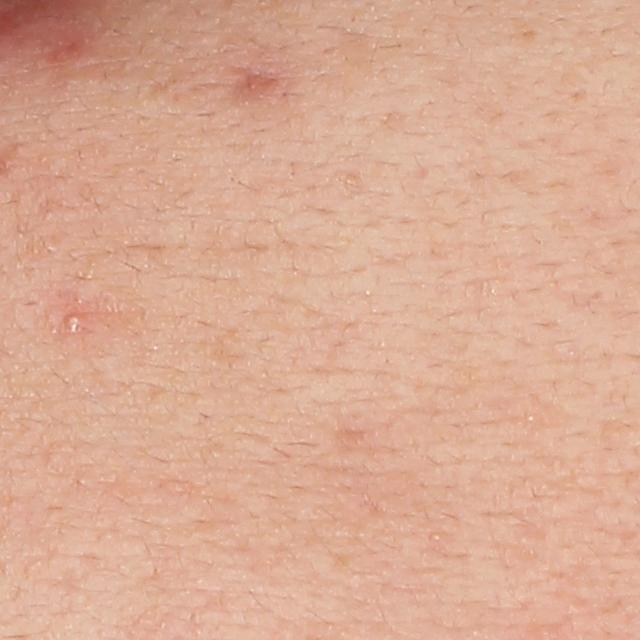pustule: (59, 309, 89, 340)
